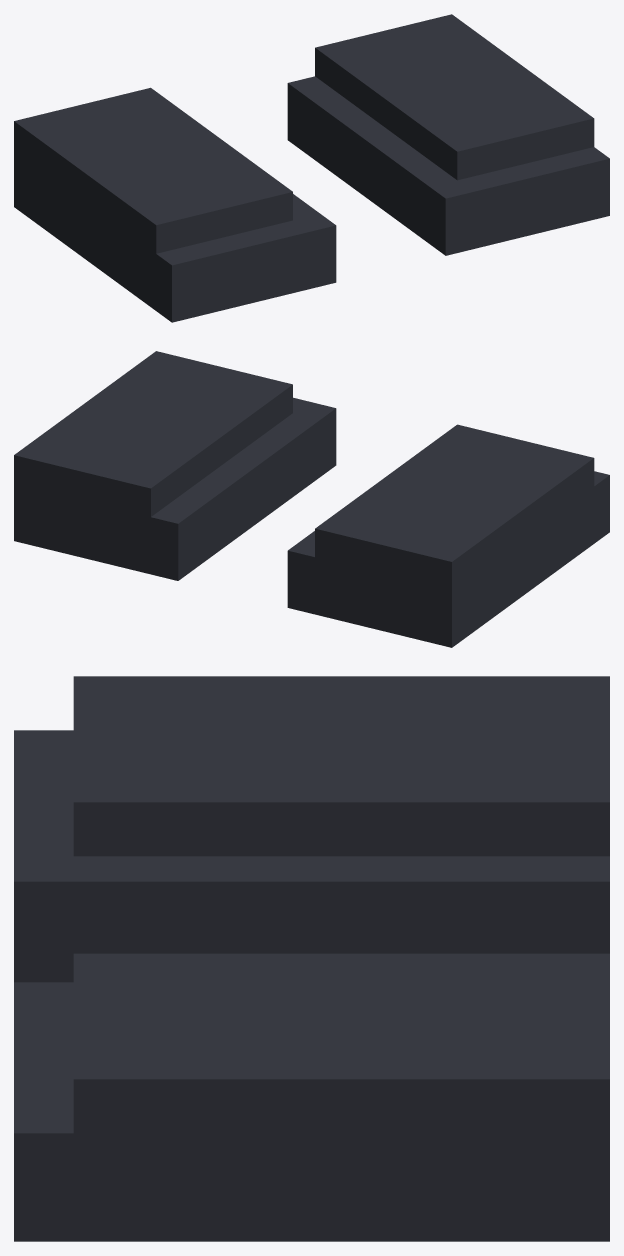
The model's file is wall.obj.
3 views of the same model, one above another, from view 1: azimuth 30°, elevation 25°; view 2: azimuth 150°, elevation 25°; view 3: azimuth 270°, elevation 25° (orthographic). The views are drawn at different scales.
Parts seen in each view (by area): view 1: cube; view 2: cube; view 3: cube.
Part boxes in pixels (x1,y1,x2,y2): cube: (14,14,609,322); cube: (14,351,609,647); cube: (14,676,609,1241).
Size of the model in its own units: 1 by 0.1875 by 0.625.
Materials: 1 (1 with a texture image).
